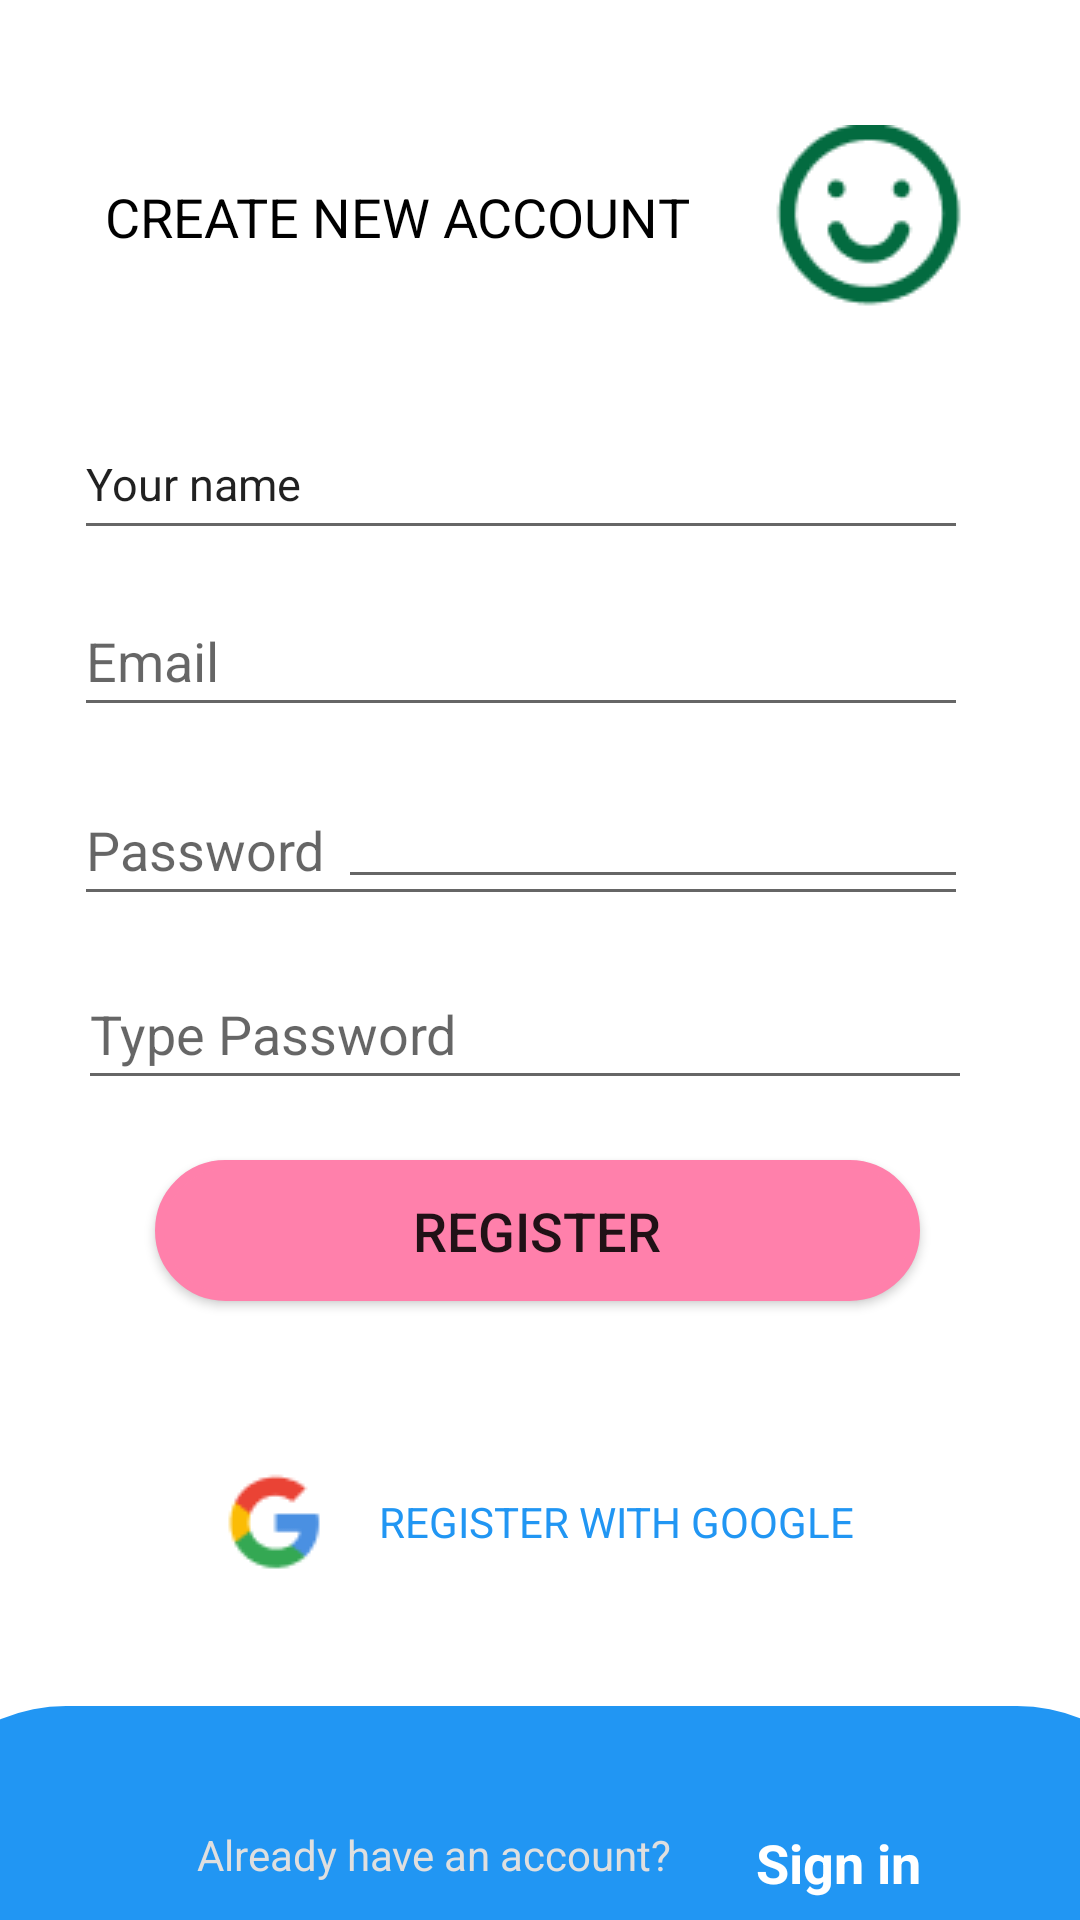

Icon bounding boxes for this 1080px x 1920px phone screenshot, format (left=x1, top=y1, right=x2, bottom=y2):
mat xanhhhhh: (left=777, top=125, right=961, bottom=306)
